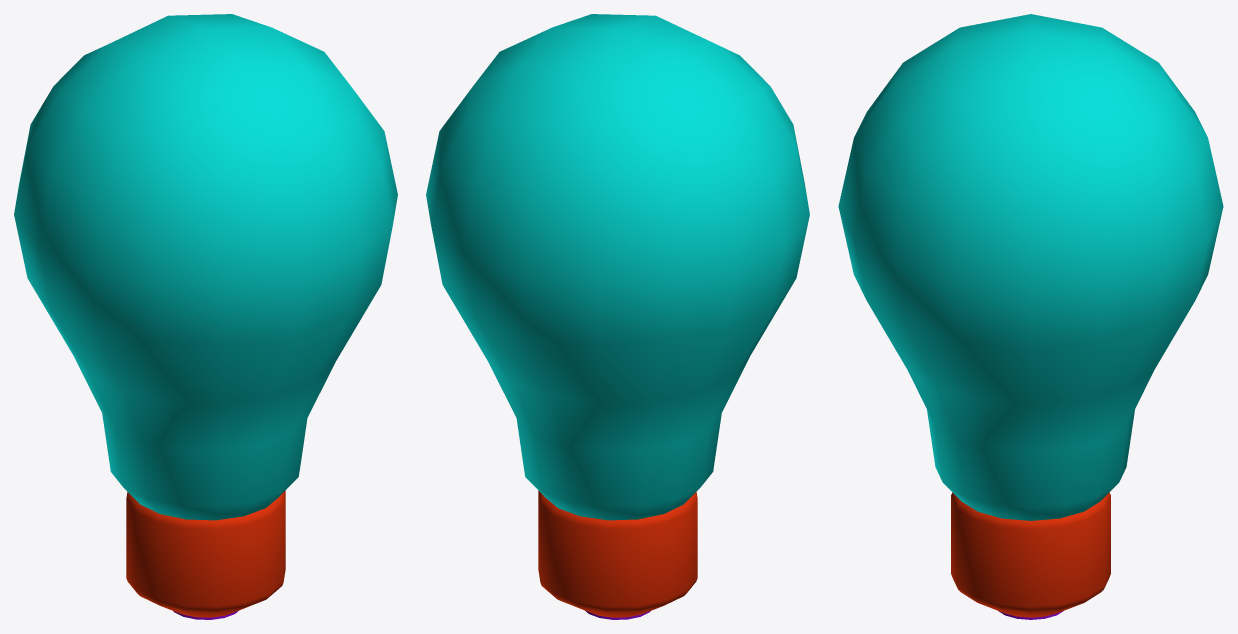
The model's file is lightbulb.fbx.
3 views of the same model, side by side, from view 1: azimuth 30°, elevation 25°; view 2: azimuth 150°, elevation 25°; view 3: azimuth 270°, elevation 25° (orthographic).
Parts seen in each view (by area): view 1: #LMP0003_Light_Bulb_Low_Poly; view 2: #LMP0003_Light_Bulb_Low_Poly; view 3: #LMP0003_Light_Bulb_Low_Poly.
Boxes of the visible parts, left/top/right/bottom form: #LMP0003_Light_Bulb_Low_Poly: left=14, top=14, right=397, bottom=619; #LMP0003_Light_Bulb_Low_Poly: left=426, top=14, right=809, bottom=619; #LMP0003_Light_Bulb_Low_Poly: left=838, top=14, right=1223, bottom=619.
Bounding box in the file's own units: 7.53 × 12.56 × 7.53.
